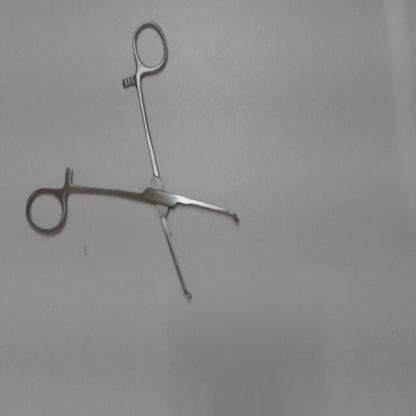Allis Tissue Forceps: (20, 10, 252, 313)
